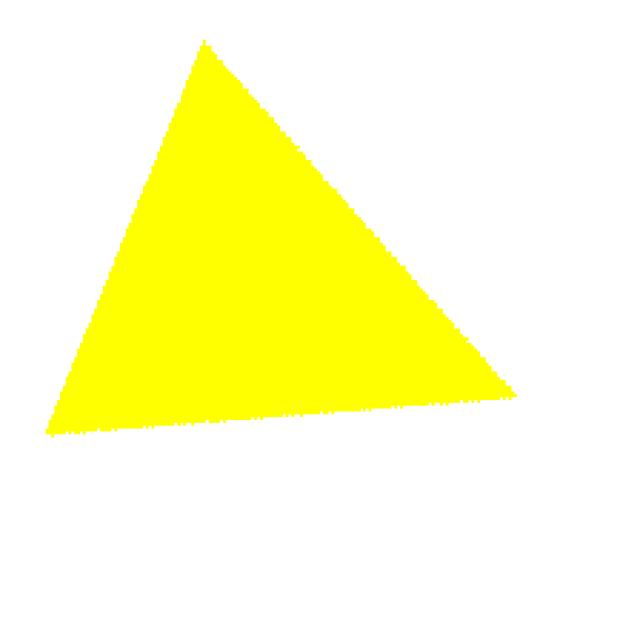Triangle: (37, 27, 593, 506)
